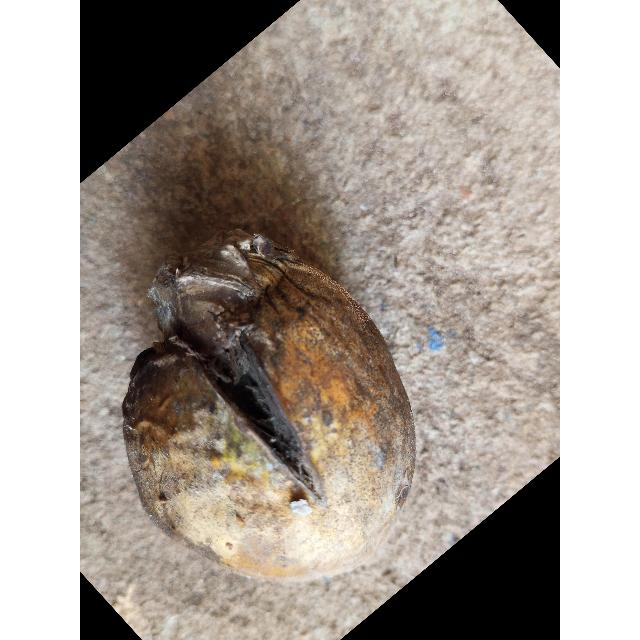damaged: (121, 209, 417, 585)
